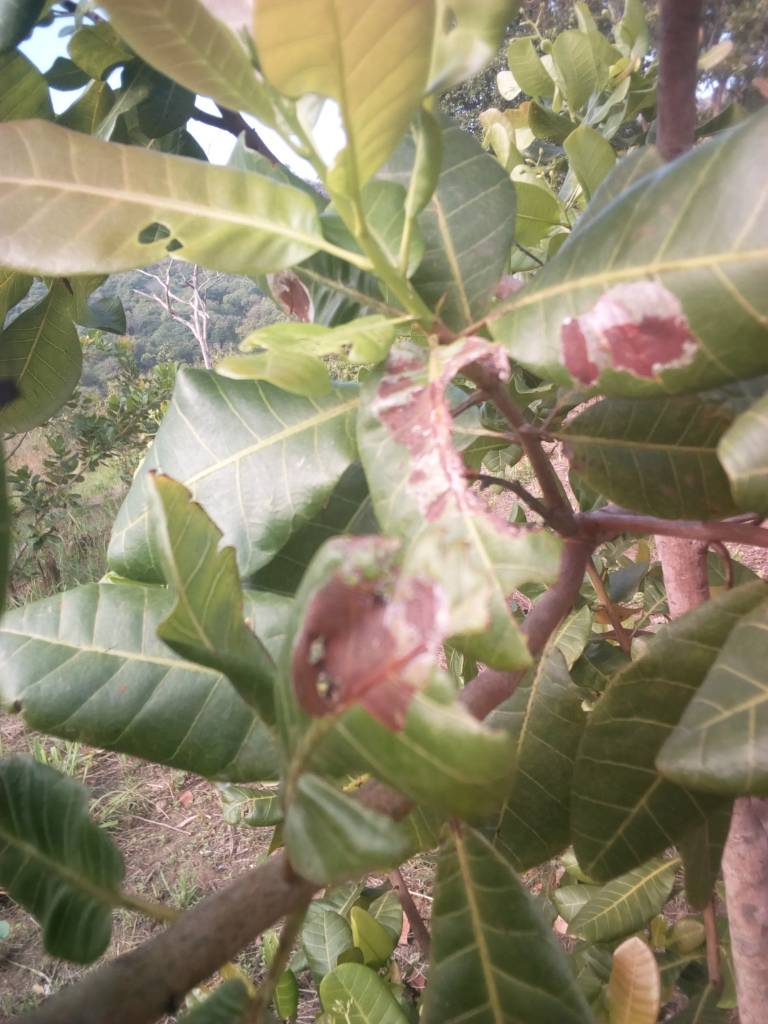Dysdercus wolkerii: (502, 100, 768, 439)
